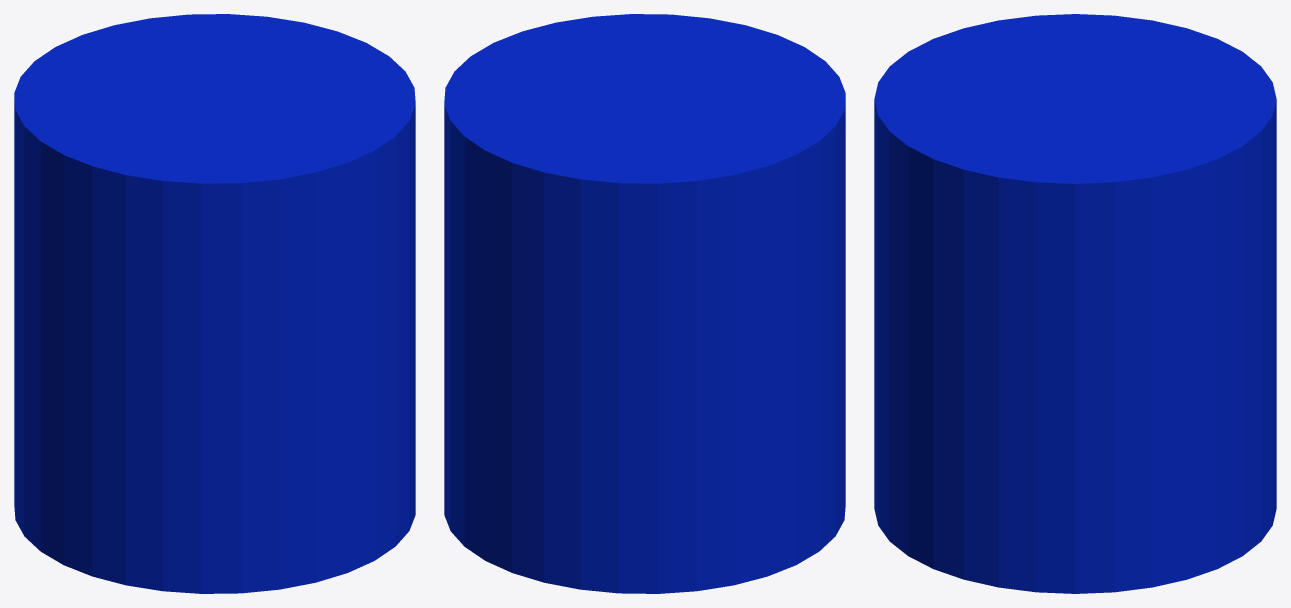
Rendered from Portal mesh.fbx.
3 views of the same model, side by side, from view 1: azimuth 30°, elevation 25°; view 2: azimuth 150°, elevation 25°; view 3: azimuth 270°, elevation 25° (orthographic).
Parts seen in each view (by area): view 1: Circle; view 2: Circle; view 3: Circle.
Boxes of the visible parts, bbox=[...] form: Circle: bbox=[14, 14, 415, 593]; Circle: bbox=[444, 14, 845, 593]; Circle: bbox=[874, 14, 1276, 593].
Bounding box in the file's own units: 200 × 225 × 200.
